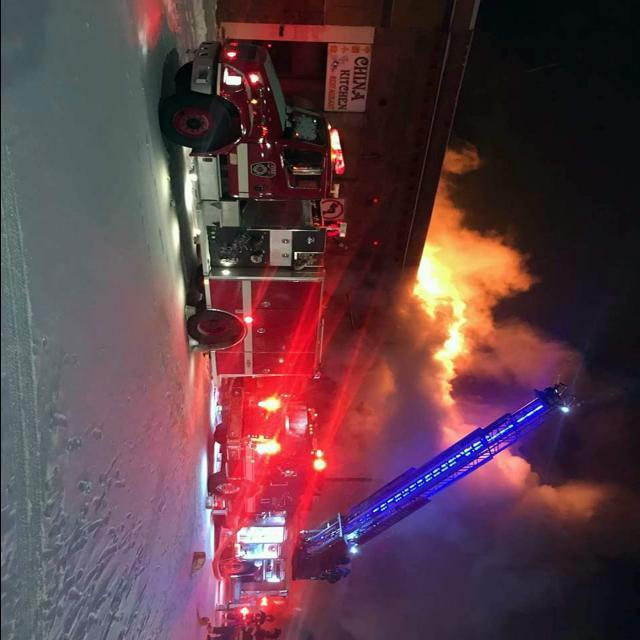Fire: (409, 210, 502, 422)
